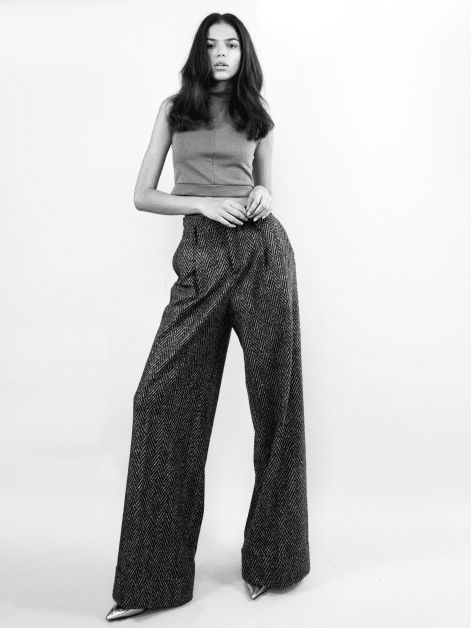person: (100, 5, 353, 624)
